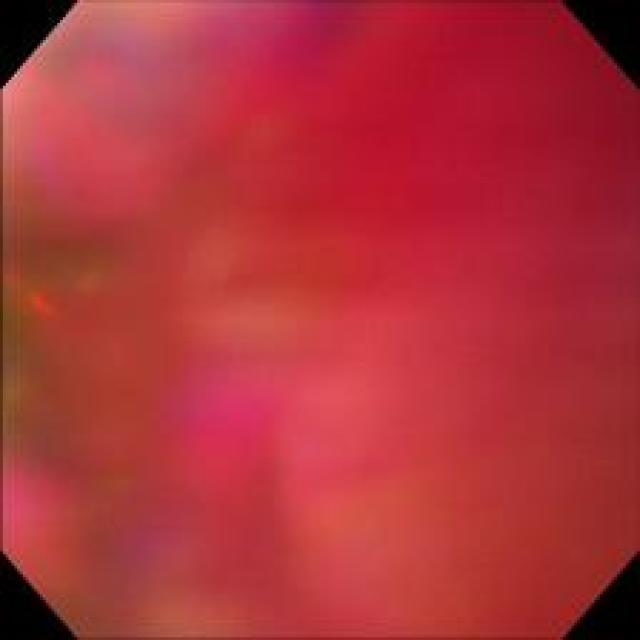color misalignment: (2, 4, 630, 631)
